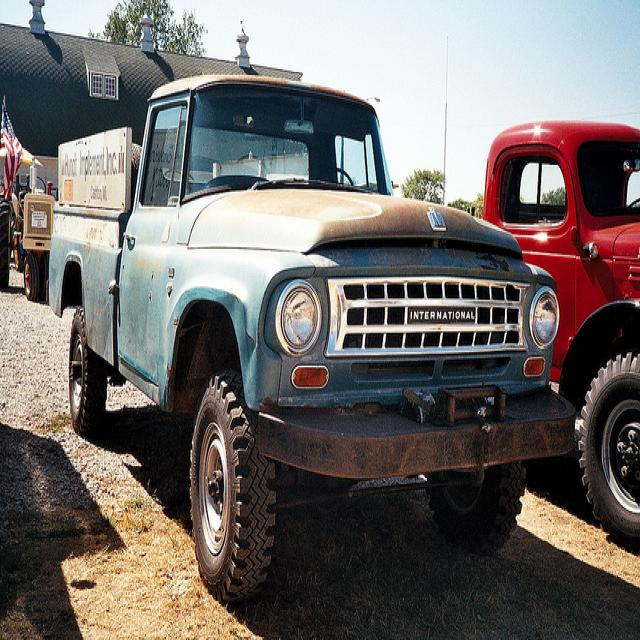Vehicle: (51, 73, 556, 601), (483, 119, 640, 545)
